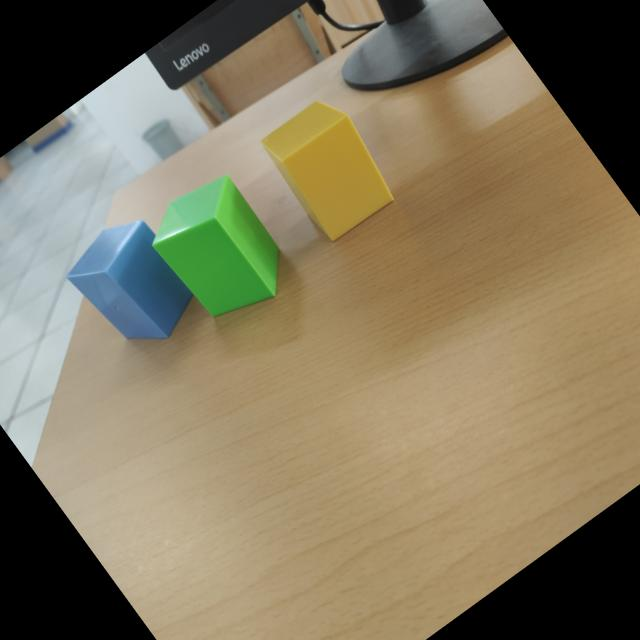blue: (67, 219, 193, 341)
green: (153, 176, 281, 318)
yellow: (263, 101, 394, 241)
